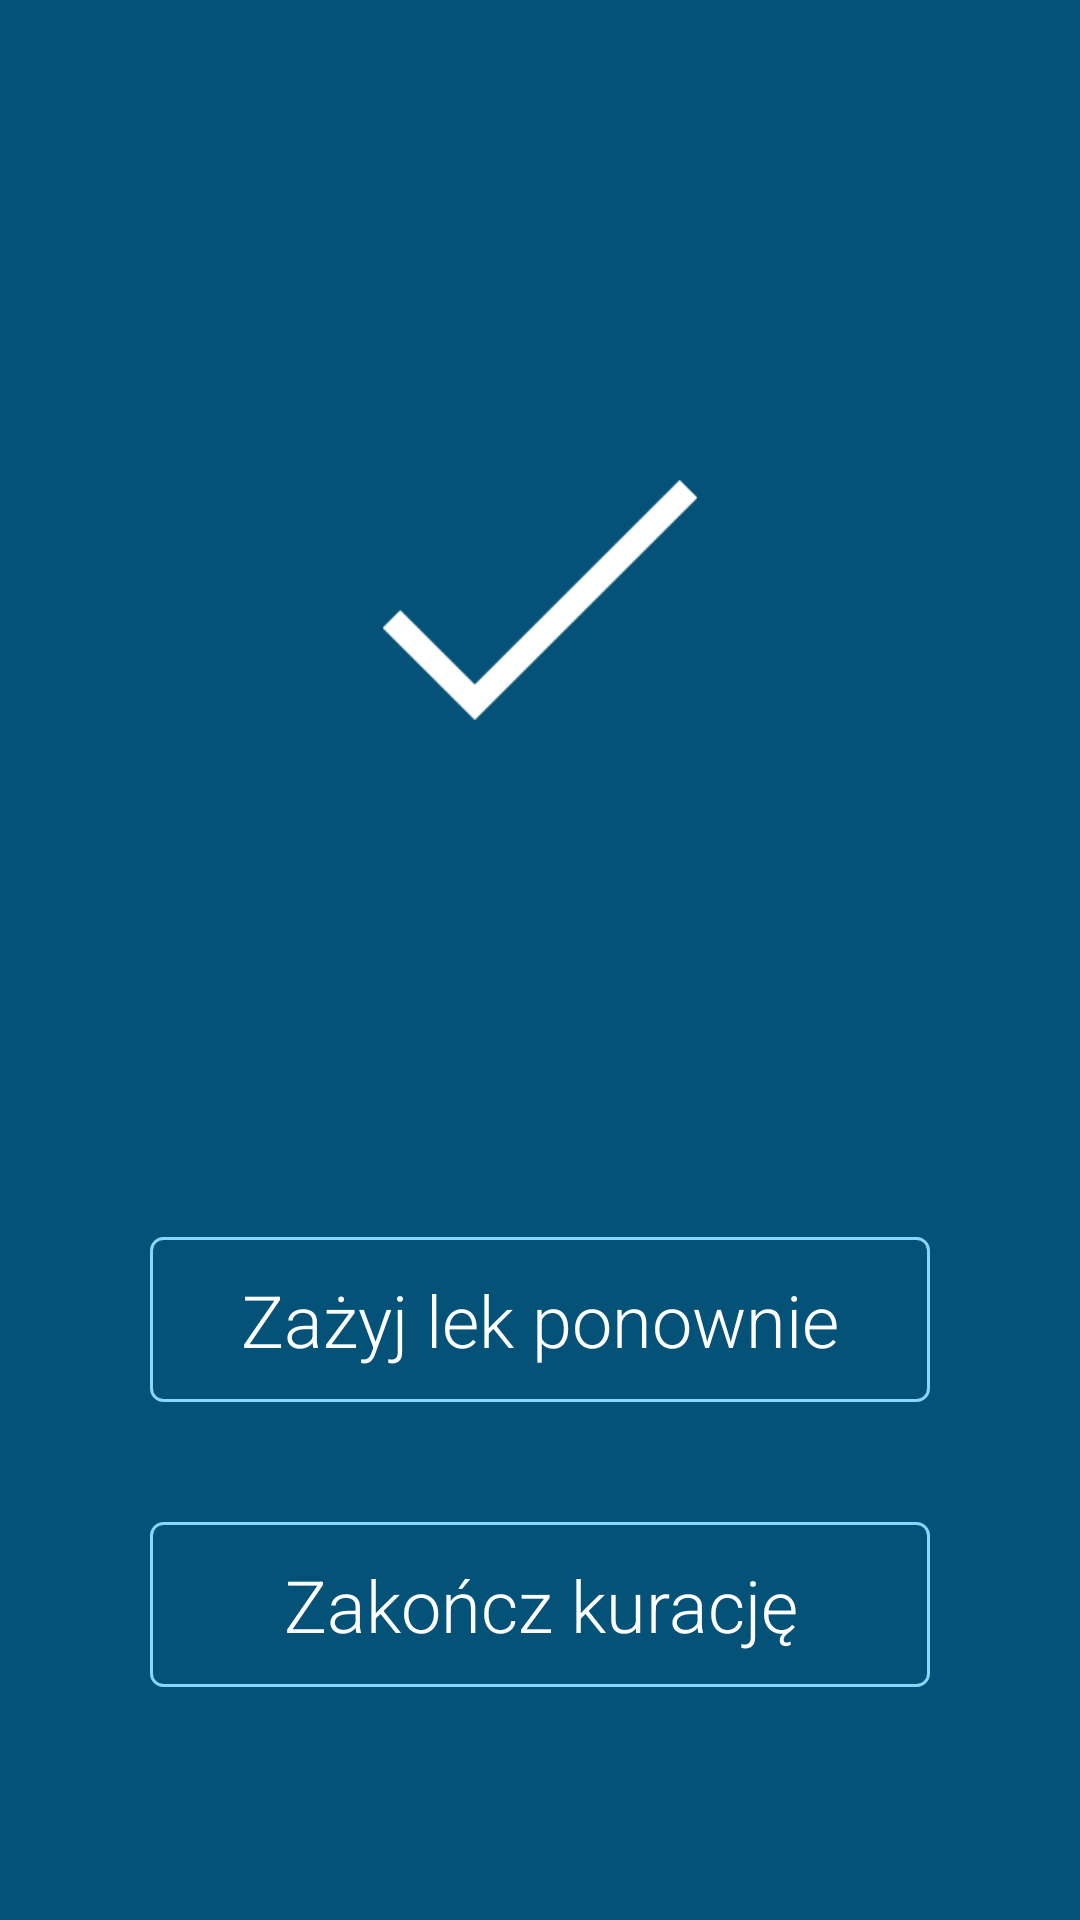

Icons on this 1080x1920 Android screen, each with the point to tap as (x=x, y=y):
check: (x=540, y=600)
